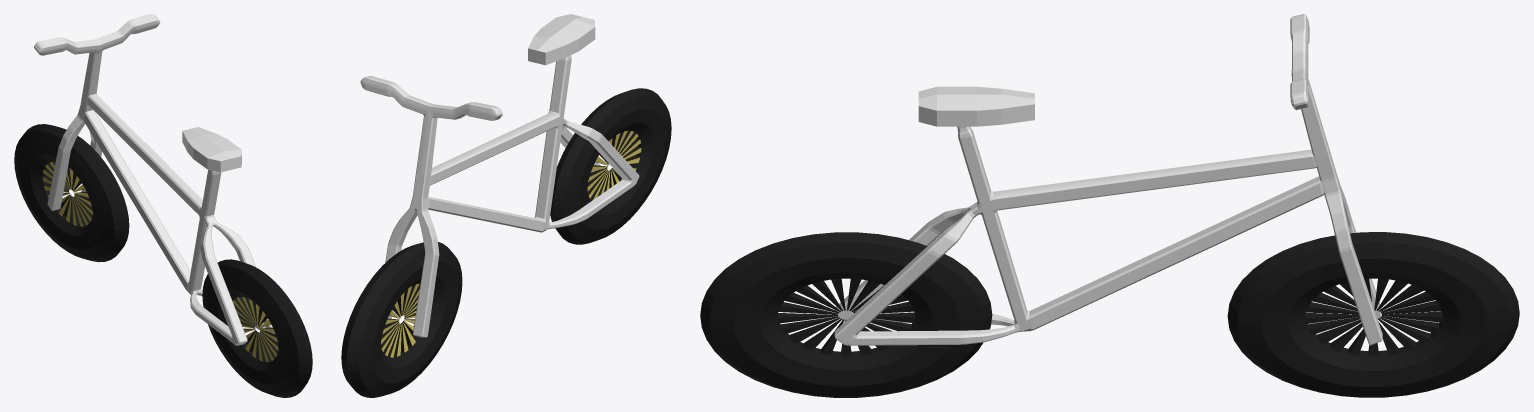
The model's file is 1-2 real.fbx.
3 views of the same model, side by side, from view 1: azimuth 30°, elevation 25°; view 2: azimuth 150°, elevation 25°; view 3: azimuth 270°, elevation 25° (orthographic). The views are drawn at different scales.
Visible parts, largest first — view 1: Frame; view 2: Frame; view 3: Frame.
Boxes of the visible parts, x1=… form: Frame: x1=14, y1=14, x2=312, y2=397; Frame: x1=341, y1=14, x2=671, y2=397; Frame: x1=700, y1=14, x2=1519, y2=397.
Size of the model in its own units: 149 by 282 by 610.
